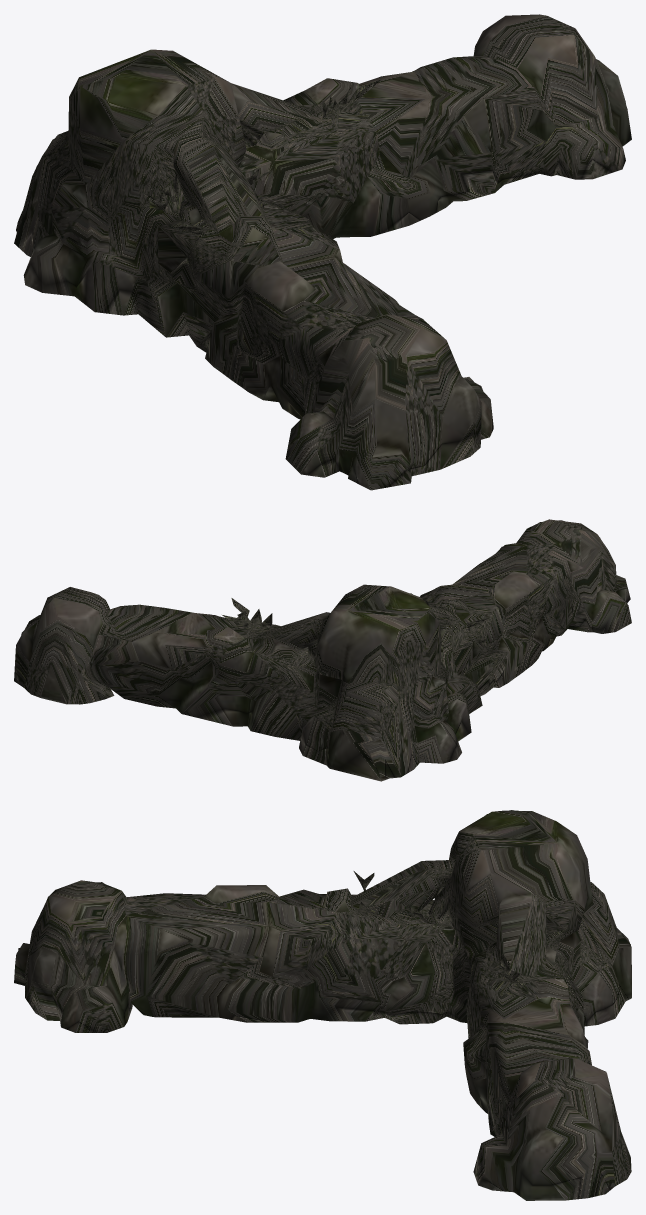
File: corner_rock.glb
The picture shows the model from 3 angles, top to bottom: view 1: azimuth 30°, elevation 25°; view 2: azimuth 150°, elevation 25°; view 3: azimuth 270°, elevation 25°; orthographic projection. The views are drawn at different scales.
Visible parts, largest first — view 1: corner_rock; view 2: corner_rock; view 3: corner_rock.
Part boxes in pixels (x1,y1,x2,y2): corner_rock: [14, 14, 631, 490]; corner_rock: [14, 519, 631, 781]; corner_rock: [14, 810, 631, 1200].
Bounding box in the file's own units: 1.85 × 0.5675 × 1.9.
1 material, 1 textured.
